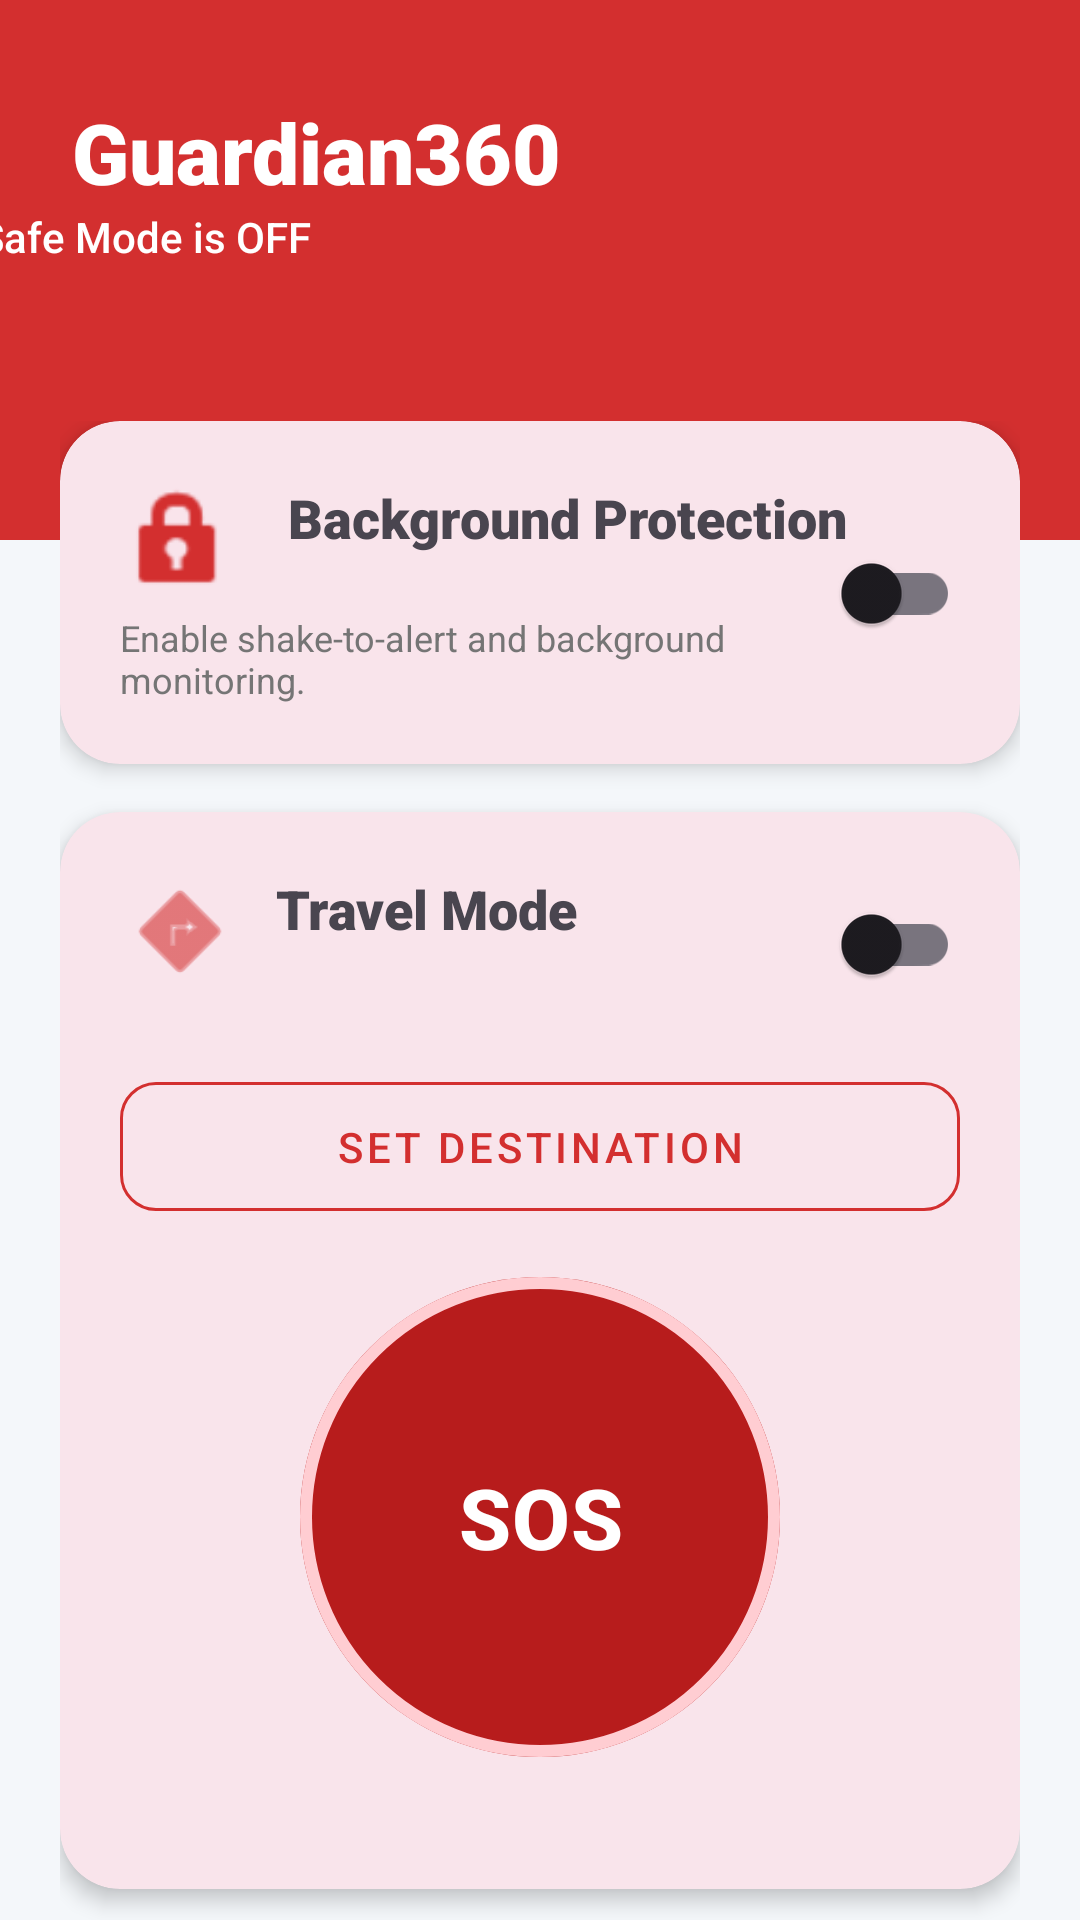

Icons on this 1080px x 1920px Android screen, each with its box as (x1, y1, x2, y2):
directions: (139, 890, 221, 972)
lock idle: (138, 491, 217, 583)
